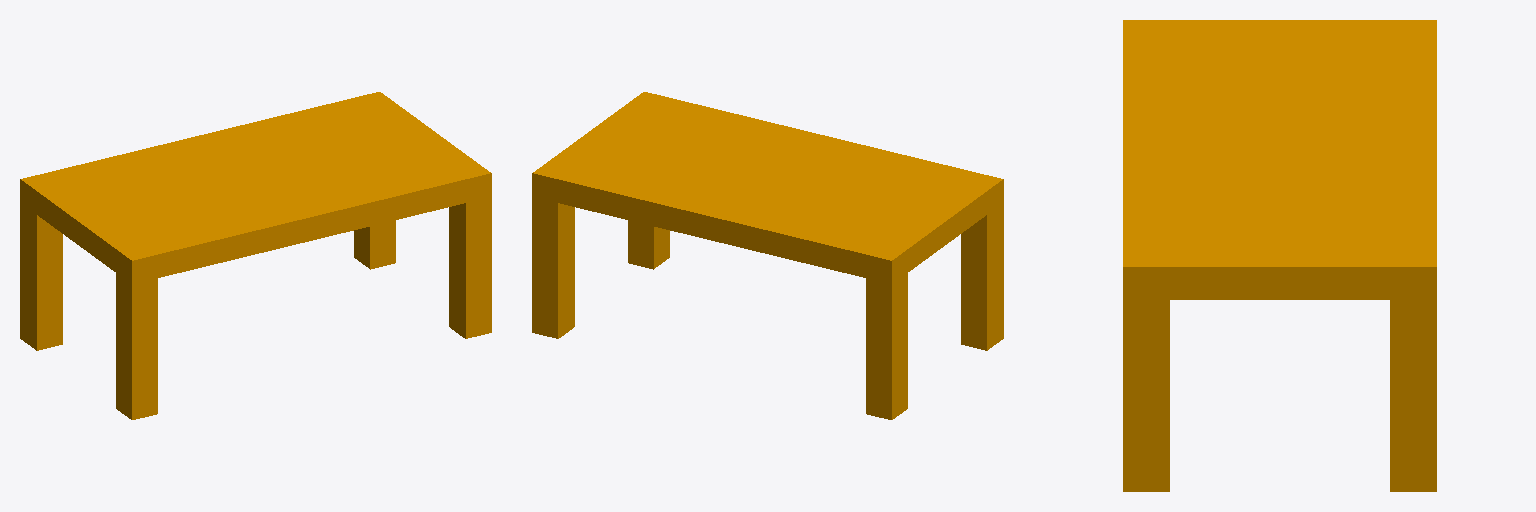
URDF robot description (taskTable1):
<?xml version="1.0"?>
<!-- created with Phobos 1.0.1 "Capricious Choutengan" -->
  <robot name="taskTable1">

    <link name="taskTable1_root">
      <inertial>
        <origin xyz="0 0 0" rpy="0 0 0"/>
        <mass value="0.001"/>
        <inertia ixx="0.001" ixy="0" ixz="0" iyy="0.001" iyz="0" izz="0.001"/>
      </inertial>
      <visual name="Cube">
        <origin xyz="0 0 0" rpy="0 0 0"/>
        <geometry>
          <mesh filename="..\meshes\dae\Cube.001.dae" scale="0.53 0.285 0.225"/>
        </geometry>
      </visual>
      <collision name="Cube.col">
        <origin xyz="0 0 0" rpy="0 0 0"/>
        <geometry>
          <mesh filename="..\meshes\dae\Cube.003.dae" scale="1.0 1.0 1.0"/>
        </geometry>
      </collision>
    </link>

  </robot>

--- Render facts (derived) ---
Views: 3 orthographic renders of the robot side by side, from view 1: azimuth 30°, elevation 25°; view 2: azimuth 150°, elevation 25°; view 3: azimuth 270°, elevation 25°.
Model taskTable1 with 1 links and 0 joints (none), rooted at taskTable1_root, posed all joints at 0.
Links seen in each view (by area): view 1: taskTable1_root; view 2: taskTable1_root; view 3: taskTable1_root.
Boxes of the visible links, x1,y1,x2,y2 form: taskTable1_root: [20, 92, 491, 419]; taskTable1_root: [532, 92, 1003, 419]; taskTable1_root: [1123, 20, 1436, 491].
Bounding box of the posed robot: 1.06 × 0.57 × 0.45 m (x, y, z).
Meshes: 1 distinct files referenced, 1 mesh visuals loaded (1 Collada DAE).